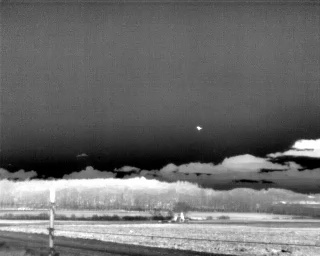DRONE: (194, 122, 205, 134)
